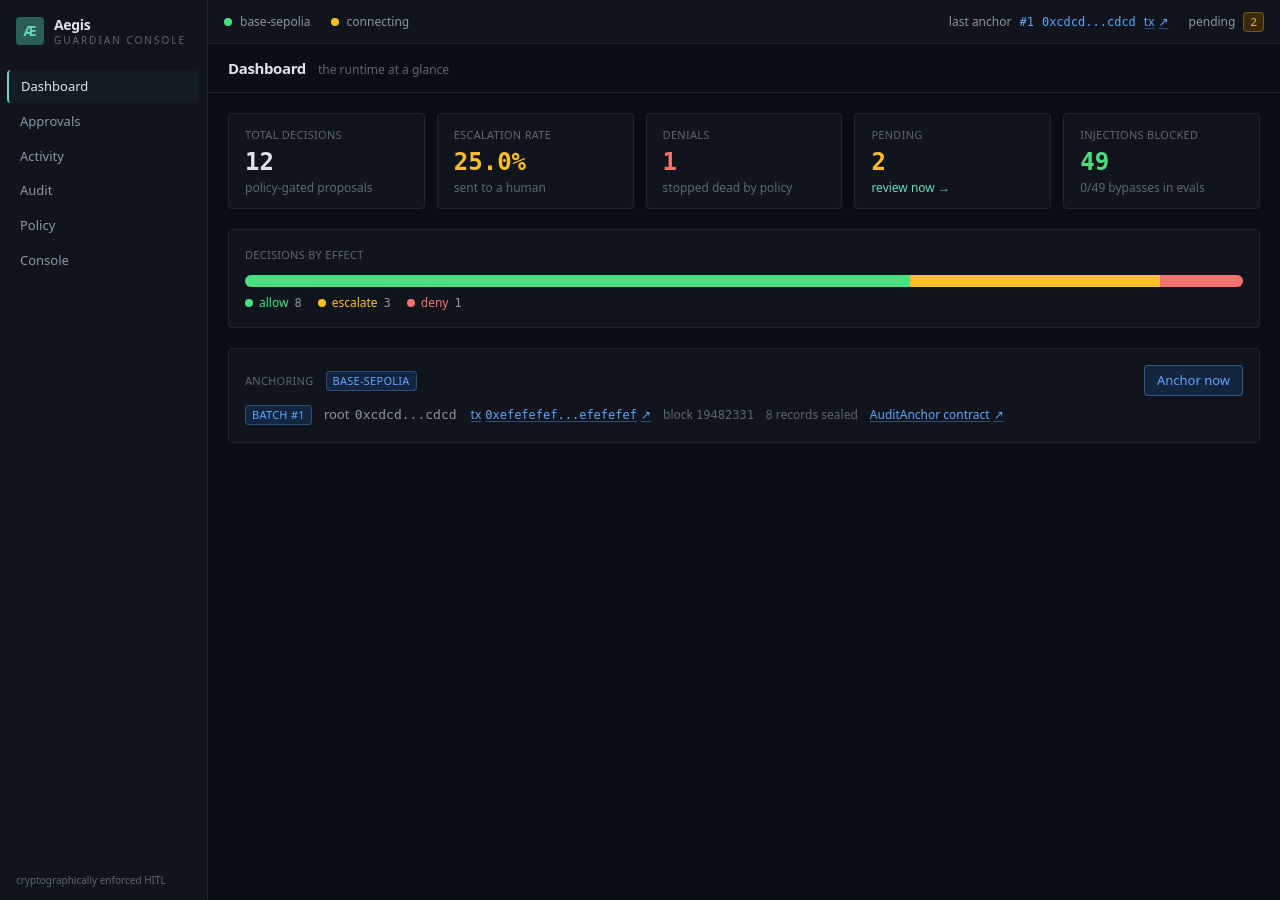
Test: DashboardPage › surfaces an anchoring failure instead of a silent no-op
This screenshot has width=1280, height=900.
Click the button "Anchor now". click: x=1193, y=381
box: [1144, 365, 1243, 396]
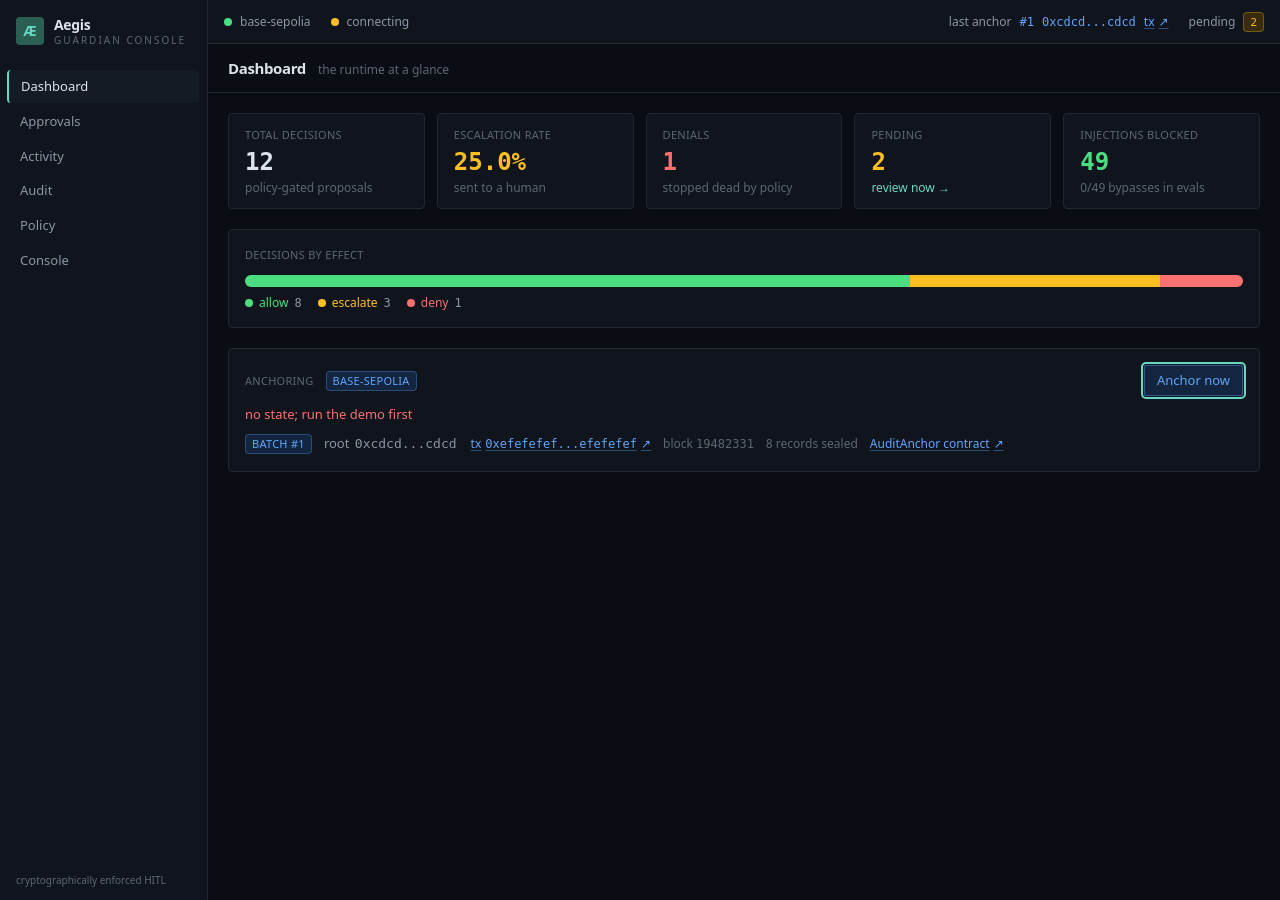
Expected: the text "no state; run the demo first" is shown, [245, 405, 412, 423]
